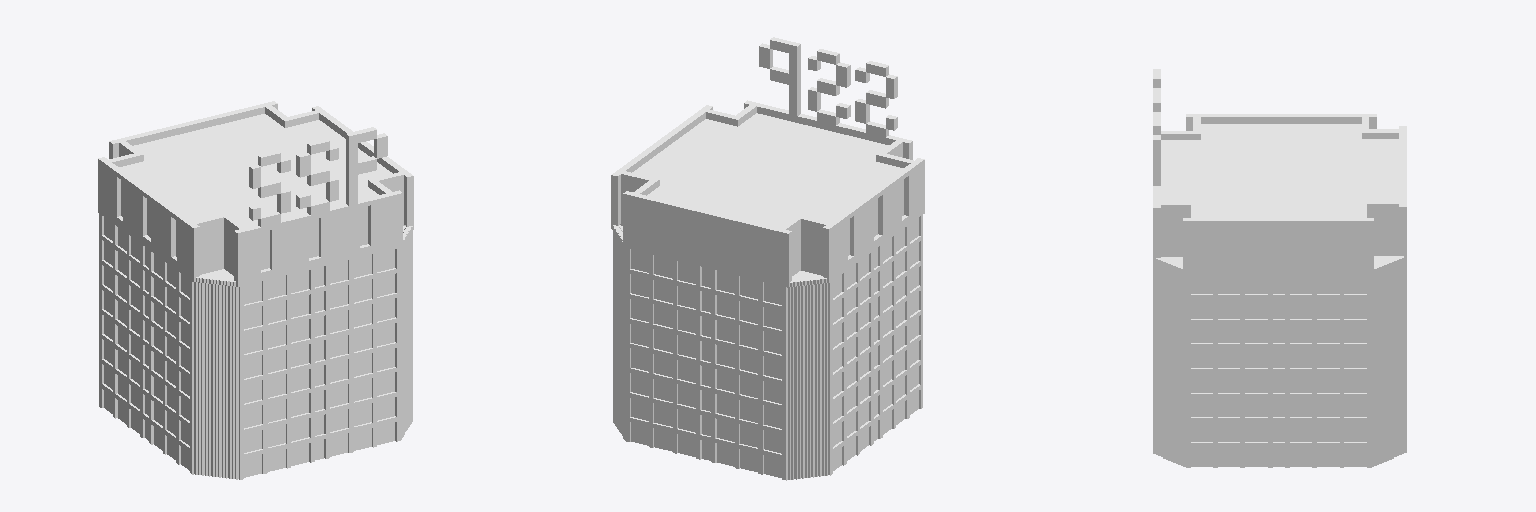
Rendered from SSp2.obj.
The picture shows the model from 3 angles: view 1: azimuth 30°, elevation 25°; view 2: azimuth 150°, elevation 25°; view 3: azimuth 270°, elevation 25°; orthographic projection.
Visible parts, largest first — view 1: object 1; view 2: object 1; view 3: object 1.
Boxes of the visible parts, x1,y1,x2,y2 form: object 1: [98, 101, 413, 479]; object 1: [611, 37, 924, 480]; object 1: [1153, 69, 1406, 467].
Size of the model in its own units: 10.2 by 14.1 by 10.2.